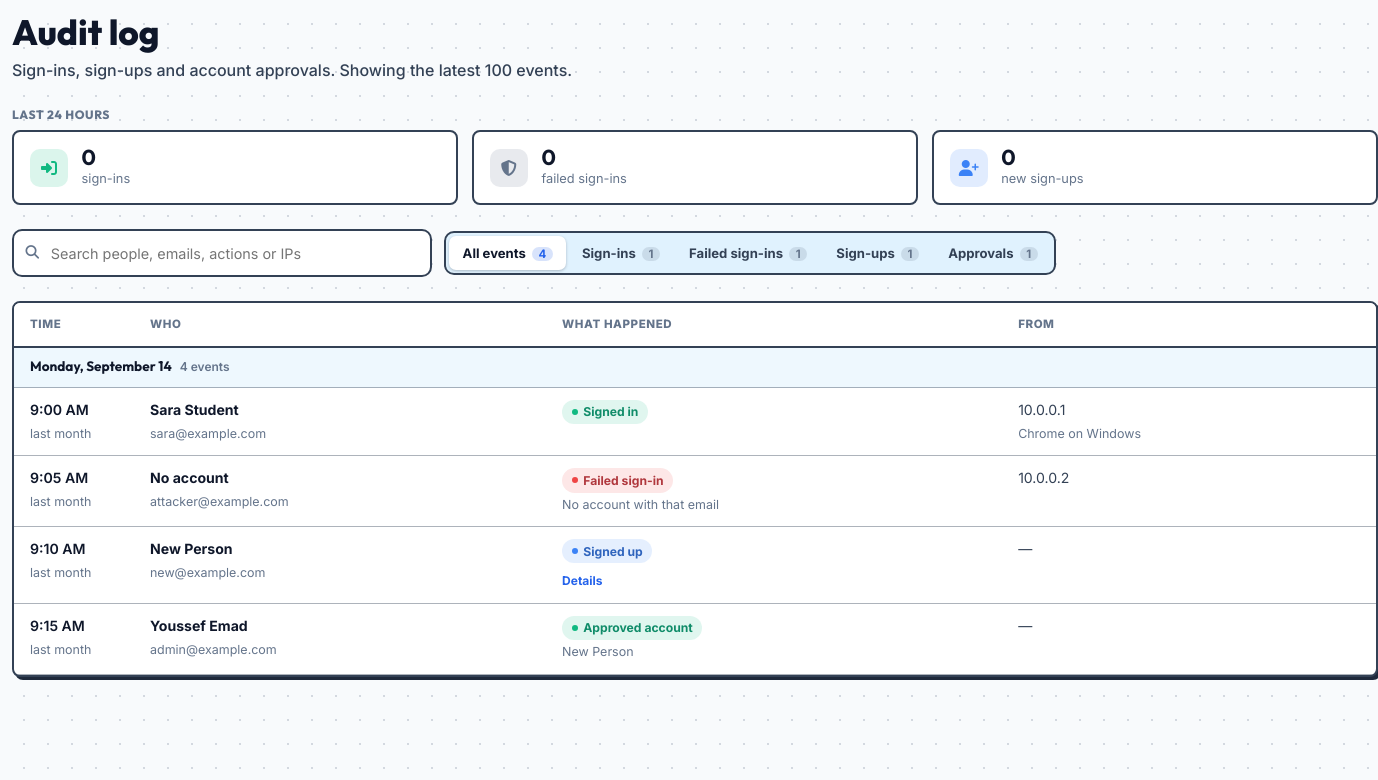
Test: audit log page › filters down to one kind of event
What coordinates should you click on to do the following:
click the button "Failed sign-ins1"
I would click on:
 (748, 253)
Its box is [676,236,821,270].
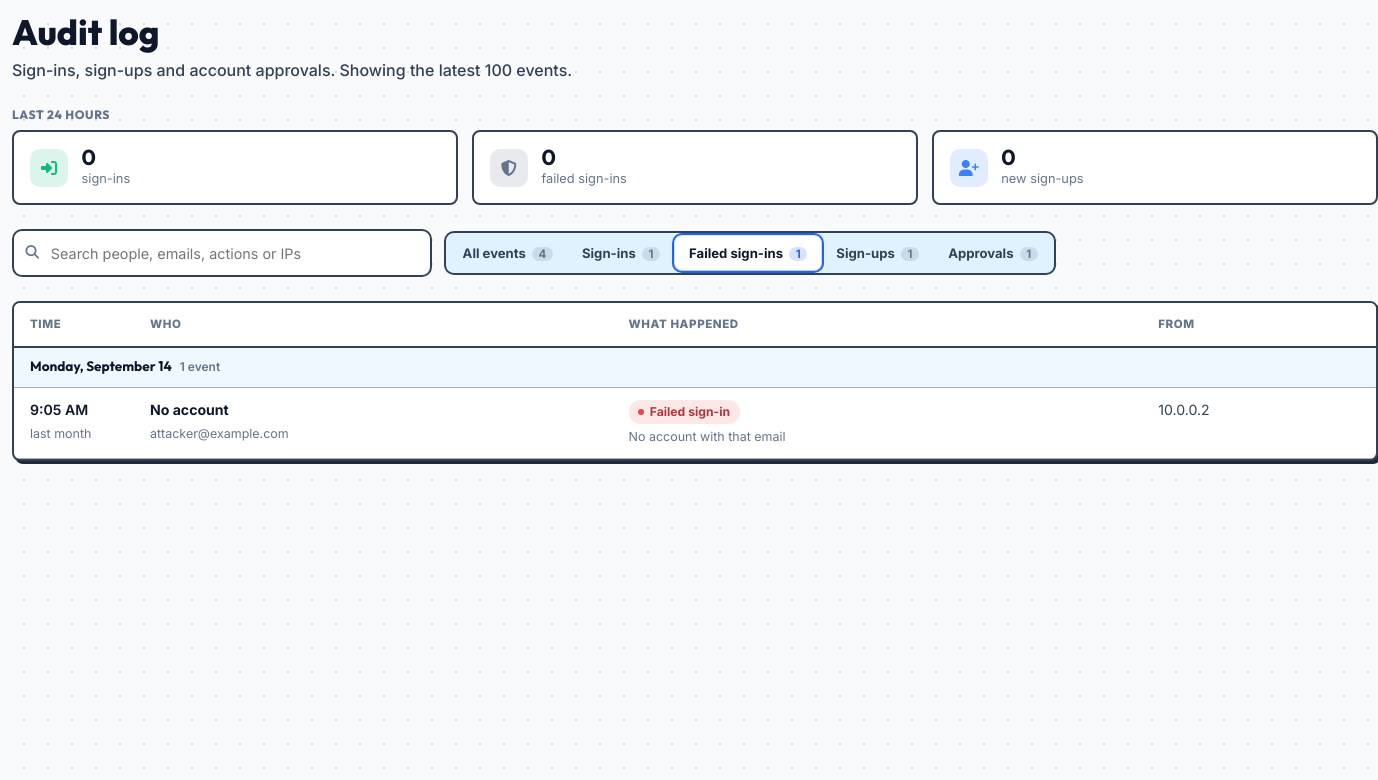
Check: the text "Failed sign-in" is shown, box [629,400,740,424]
Check: the text "Signed in" is gone
Check: the text "Signed up" is gone
